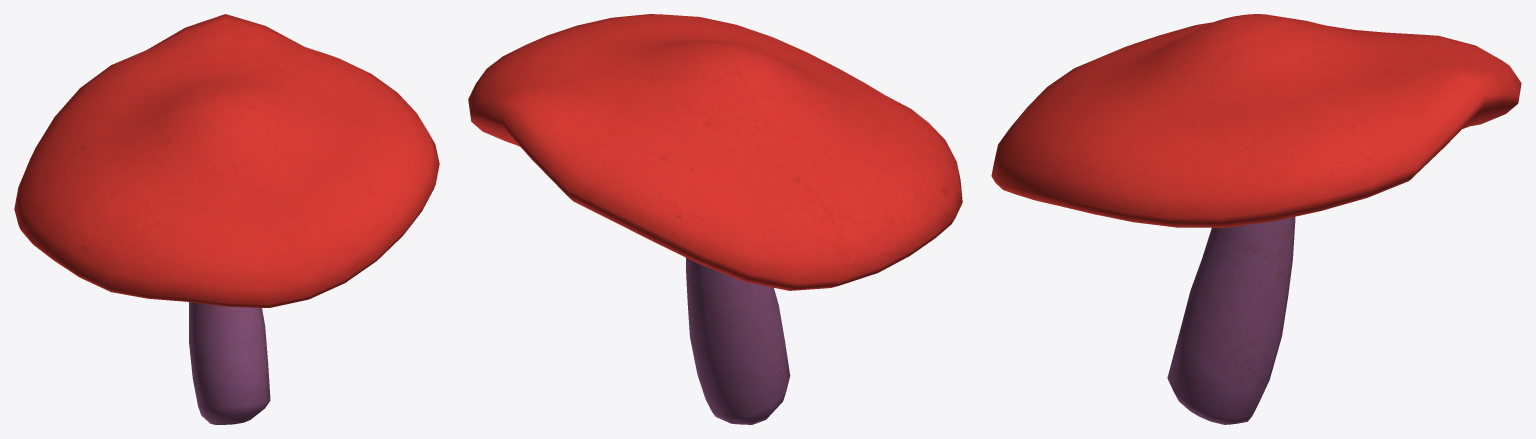
The model's file is Mushroom_Large_01.fbx.
The picture shows the model from 3 angles, left to right: view 1: azimuth 30°, elevation 25°; view 2: azimuth 150°, elevation 25°; view 3: azimuth 270°, elevation 25°; orthographic projection. The views are drawn at different scales.
Visible parts, largest first — view 1: Mushroom_Large_01; view 2: Mushroom_Large_01; view 3: Mushroom_Large_01.
Boxes of the visible parts, <box> form: Mushroom_Large_01: <box>14,14,439,424</box>; Mushroom_Large_01: <box>468,14,962,424</box>; Mushroom_Large_01: <box>991,14,1521,424</box>.
Size of the model in its own units: 9.87 by 9.81 by 8.15.
